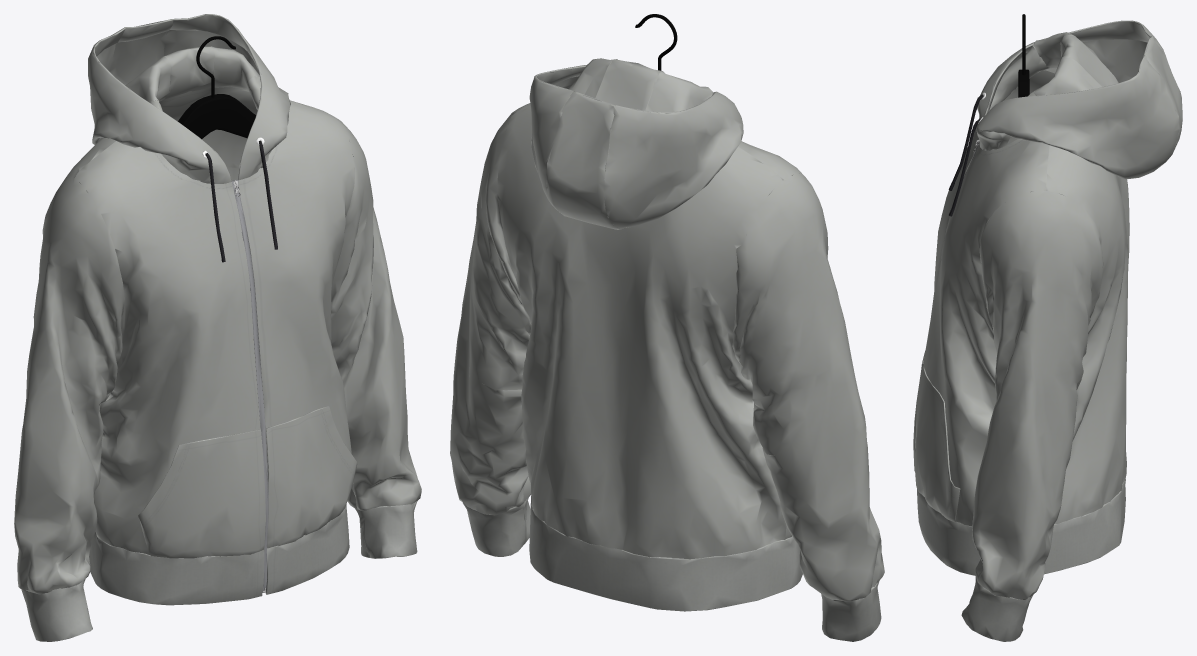
The model's file is zip-up-hoodie.glb.
The picture shows the model from 3 angles, left to right: view 1: azimuth 30°, elevation 25°; view 2: azimuth 150°, elevation 25°; view 3: azimuth 270°, elevation 25°; orthographic projection. The views are drawn at different scales.
Parts seen in each view (by area): view 1: Object_182.001, polySurface053.012; view 2: Object_182.001; view 3: Object_182.001, polySurface053.012.
Part boxes in pixels (x1,y1,x2,y2): Object_182.001: (14, 14, 421, 641); polySurface053.012: (178, 36, 353, 156); Object_182.001: (450, 58, 884, 641); Object_182.001: (913, 20, 1182, 641); polySurface053.012: (1018, 14, 1029, 97).
Size of the model in its own units: 0.6309 by 0.8397 by 0.3788.
2 materials, 1 textured.
